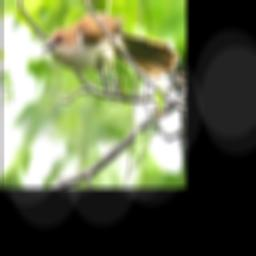Cuckoo: (41, 12, 181, 104)
